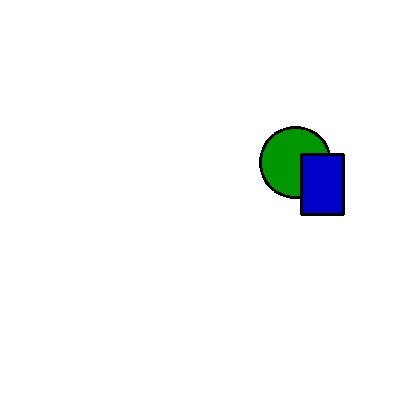circle: (260, 119, 331, 205)
rectangle: (301, 154, 343, 214)
